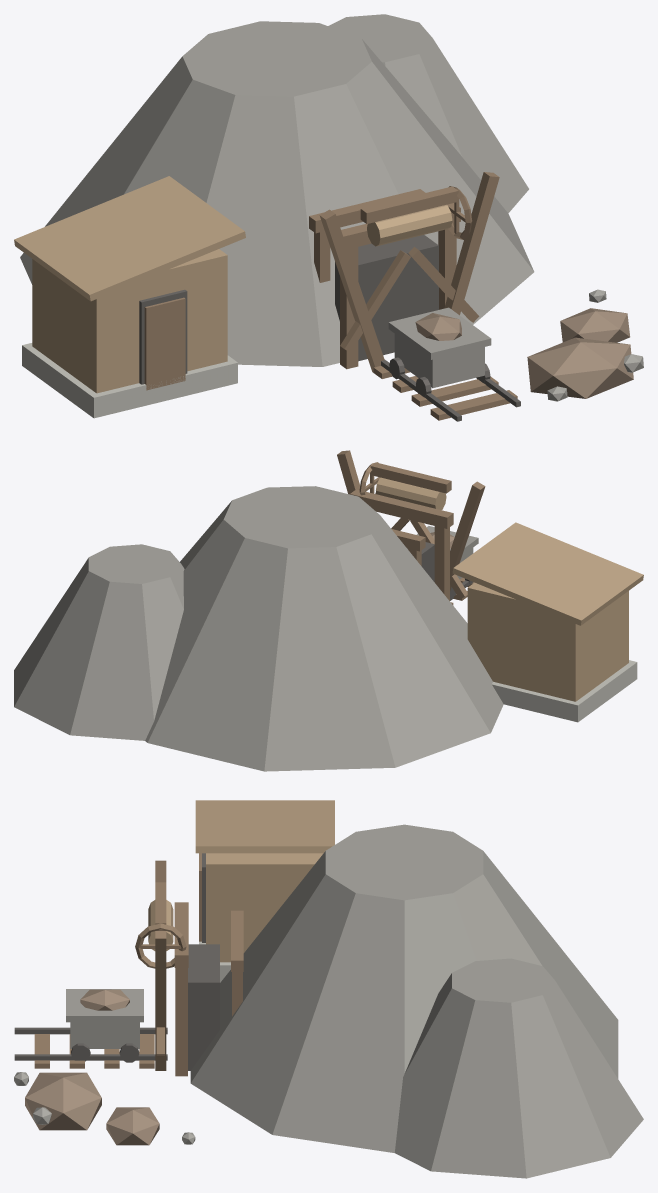
The model's file is era1-mine-B0vAOnjr.glb.
3 renders of one model, top to bottom at view 1: azimuth 30°, elevation 25°; view 2: azimuth 150°, elevation 25°; view 3: azimuth 270°, elevation 25°, orthographic. The views are drawn at different scales.
Parts seen in each view (by area): view 1: Mine_Mound, Mine_Shed, Mine_ShedRoof, Mine_Mound2, Mine_AditDark, Mine_ShedFooting, Mine_OrePile1, Mine_ShedDoor, Mine_HeadLegL, Mine_Cart, Mine_HeadLegR, Mine_CartRim (+15 smaller); view 2: Mine_Mound, Mine_Mound2, Mine_Shed, Mine_ShedRoof, Mine_ShedFooting, Mine_PortalLintel, Mine_Windlass, Mine_HeadLegL, Mine_HeadCrossbar, Mine_PortalPostL, Mine_HeadLegR, Mine_HeadBraceL; view 3: Mine_Mound, Mine_Mound2, Mine_ShedRoof, Mine_Shed, Mine_OrePile1, Mine_AditDark, Mine_CartRim, Mine_Cart, Mine_OrePile2, Mine_HeadLegR, Mine_PortalPostR, Mine_CartOre (+6 smaller).
Boxes of the visible parts, x1=… form: Mine_Mound: x1=20, y1=21, x2=534, y2=366; Mine_Shed: x1=32, y1=249, x2=227, y2=393; Mine_ShedRoof: x1=14, y1=176, x2=245, y2=301; Mine_Mound2: x1=328, y1=14, x2=528, y2=213; Mine_AditDark: x1=335, y1=235, x2=438, y2=361; Mine_ShedFooting: x1=22, y1=343, x2=237, y2=418; Mine_OrePile1: x1=527, y1=337, x2=633, y2=398; Mine_ShedDoor: x1=144, y1=297, x2=185, y2=390; Mine_HeadLegL: x1=319, y1=209, x2=384, y2=372; Mine_Cart: x1=394, y1=334, x2=484, y2=388; Mine_HeadLegR: x1=444, y1=172, x2=499, y2=315; Mine_CartRim: x1=388, y1=307, x2=491, y2=359; Mine_Mound: x1=145, y1=486, x2=503, y2=771; Mine_Mound2: x1=14, y1=544, x2=184, y2=740; Mine_Shed: x1=467, y1=582, x2=628, y2=701; Mine_ShedRoof: x1=452, y1=522, x2=643, y2=625; Mine_ShedFooting: x1=492, y1=660, x2=637, y2=722; Mine_PortalLintel: x1=350, y1=489, x2=453, y2=528; Mine_Windlass: x1=376, y1=477, x2=446, y2=509; Mine_HeadLegL: x1=450, y1=481, x2=485, y2=590; Mine_HeadCrossbar: x1=370, y1=462, x2=451, y2=493; Mine_PortalPostL: x1=434, y1=526, x2=449, y2=600; Mine_HeadLegR: x1=337, y1=450, x2=360, y2=494; Mine_HeadBraceL: x1=410, y1=520, x2=467, y2=599; Mine_Mound: x1=190, y1=824, x2=618, y2=1152; Mine_Mound2: x1=394, y1=958, x2=643, y2=1178; Mine_ShedRoof: x1=195, y1=800, x2=334, y2=853; Mine_Shed: x1=206, y1=853, x2=323, y2=962; Mine_OrePile1: x1=25, y1=1072, x2=101, y2=1130; Mine_AditDark: x1=188, y1=944, x2=219, y2=1070; Mine_CartRim: x1=66, y1=989, x2=143, y2=1022; Mine_Cart: x1=70, y1=1022, x2=139, y2=1048; Mine_OrePile2: x1=106, y1=1107, x2=159, y2=1145; Mine_HeadLegR: x1=155, y1=931, x2=166, y2=1070; Mine_PortalPostR: x1=175, y1=968, x2=187, y2=1076; Mine_CartOre: x1=80, y1=989, x2=129, y2=1010.
Bounding box in the file's own units: 8.9 × 3.33 × 9.05.
